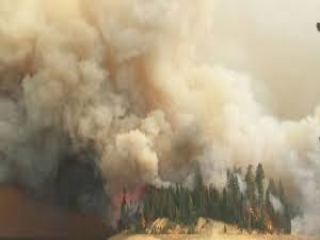smoke: (3, 39, 94, 158), (95, 110, 171, 203), (224, 171, 287, 218), (251, 207, 279, 235)
